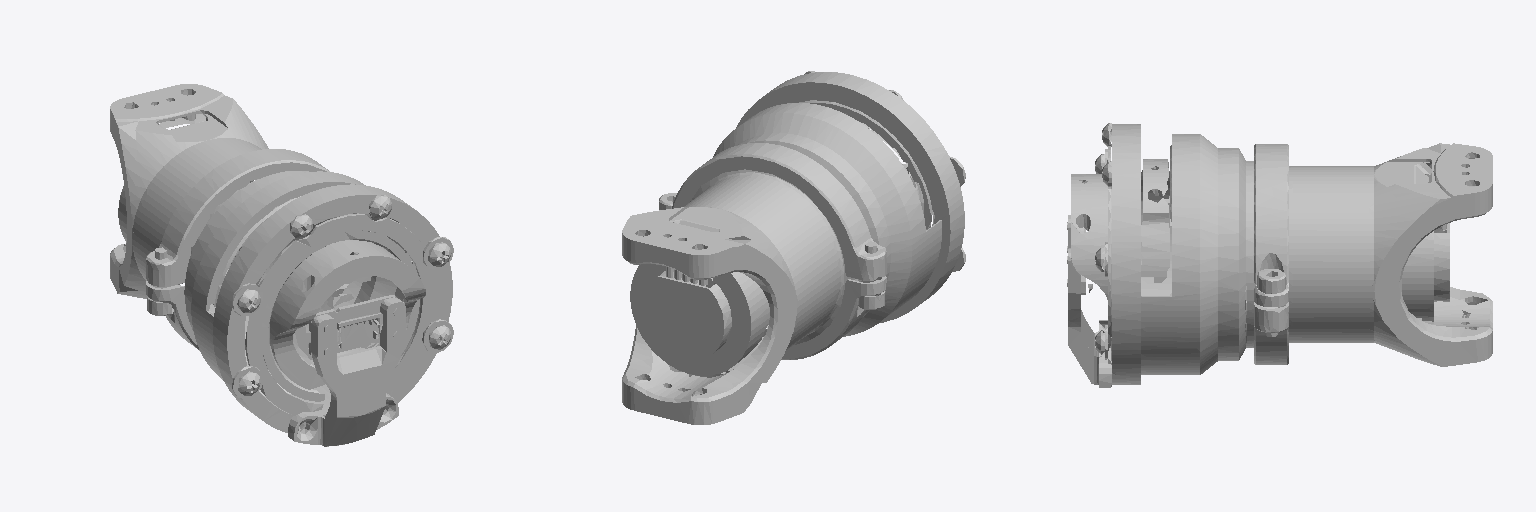
Rendered from sim_ecub_1-1_head_neck_3.obj.
3 views of the same model, side by side, from view 1: azimuth 30°, elevation 25°; view 2: azimuth 150°, elevation 25°; view 3: azimuth 270°, elevation 25° (orthographic).
Bounding box in the file's own units: 41 × 41.51 × 67.